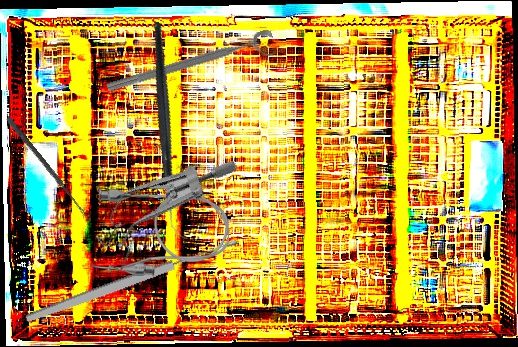Cannula: (90, 189, 229, 276)
Chopper: (98, 21, 241, 241)
Fixation Ring: (104, 28, 279, 106)
Speculum: (82, 120, 240, 305)
Surgical Spoon: (22, 235, 241, 326), (5, 116, 89, 218)
